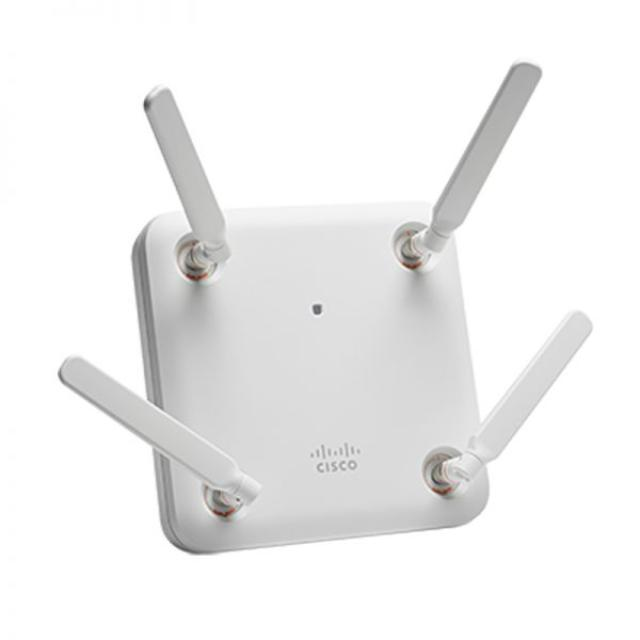Router: (43, 58, 622, 584)
